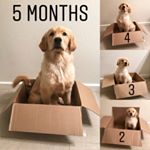puppy: (11, 25, 82, 104), (114, 2, 137, 30), (113, 57, 134, 85), (122, 105, 142, 132)
